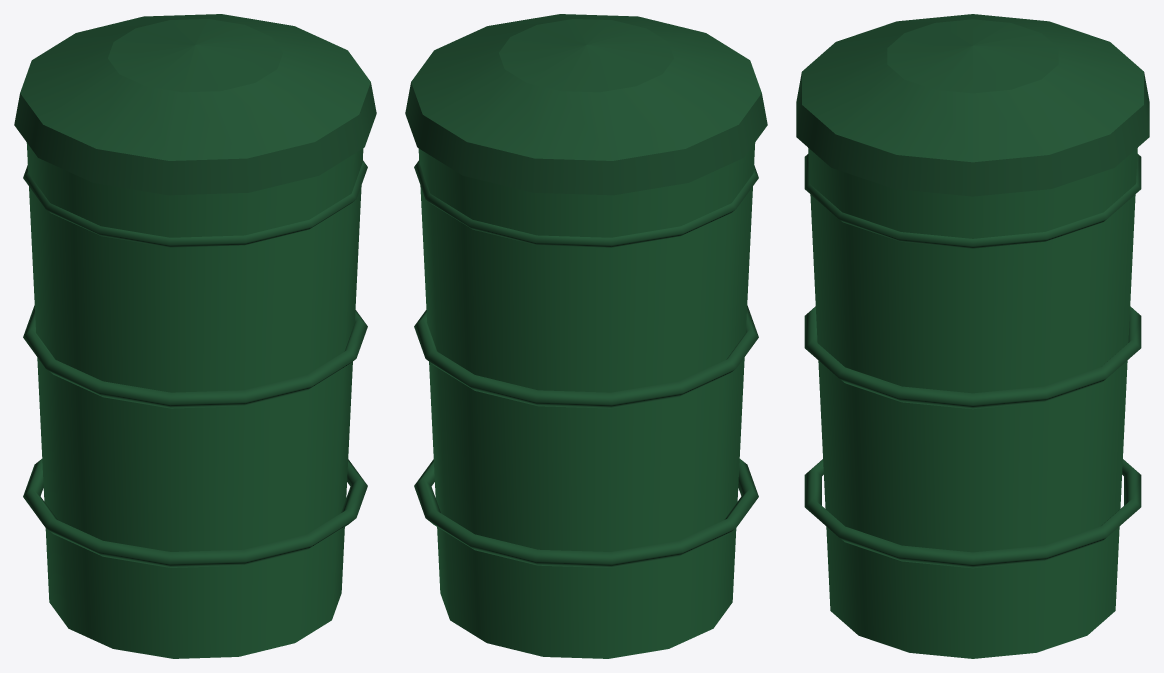
File: trash_can.glb
3 views of the same model, side by side, from view 1: azimuth 30°, elevation 25°; view 2: azimuth 150°, elevation 25°; view 3: azimuth 270°, elevation 25° (orthographic).
Parts seen in each view (by area): view 1: main, lid; view 2: main, lid; view 3: main, lid.
Part boxes in pixels (bbox=[...]): main: bbox=[23, 142, 367, 658]; lid: bbox=[14, 14, 376, 195]; main: bbox=[414, 142, 758, 658]; lid: bbox=[405, 14, 767, 195]; main: bbox=[804, 148, 1141, 658]; lid: bbox=[796, 14, 1149, 196].
Bounding box in the file's own units: 0.62 × 1.04 × 0.6045.
